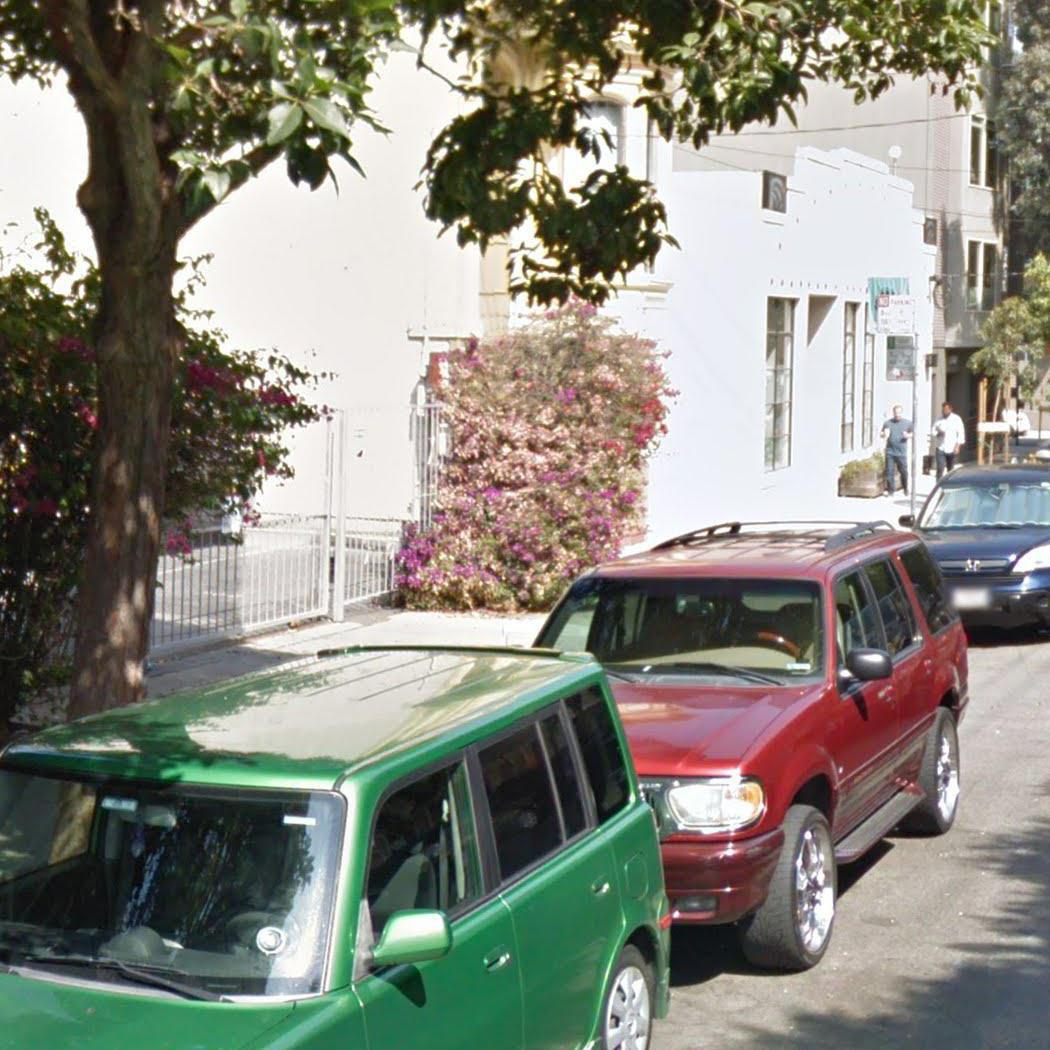2 Hour Parking: (885, 334, 919, 382)
No Parking: (875, 294, 917, 336)
